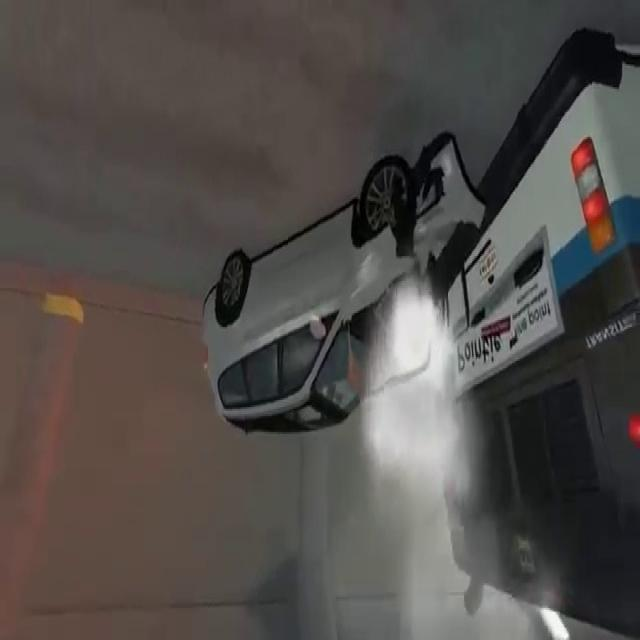severe: (195, 25, 639, 640)
